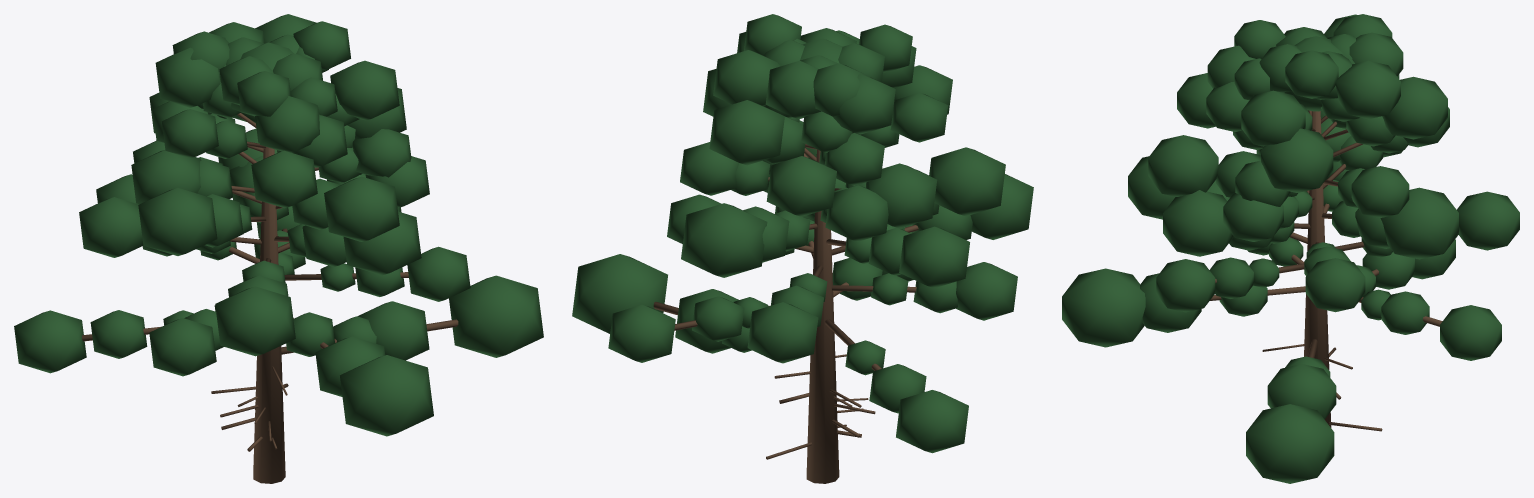
Rendered from pine_alpine_short.glb.
3 renders of one model, left to right at view 1: azimuth 30°, elevation 25°; view 2: azimuth 150°, elevation 25°; view 3: azimuth 270°, elevation 25°, orthographic. The views are drawn at different scales.
Visible parts, largest first — view 1: pine_alpine_short; view 2: pine_alpine_short; view 3: pine_alpine_short.
Boxes of the visible parts, x1,y1,x2,y2 form: pine_alpine_short: (14,14,543,483); pine_alpine_short: (572,14,1033,483); pine_alpine_short: (1062,14,1519,483).
Size of the model in its own units: 9.94 by 9.37 by 9.02.
